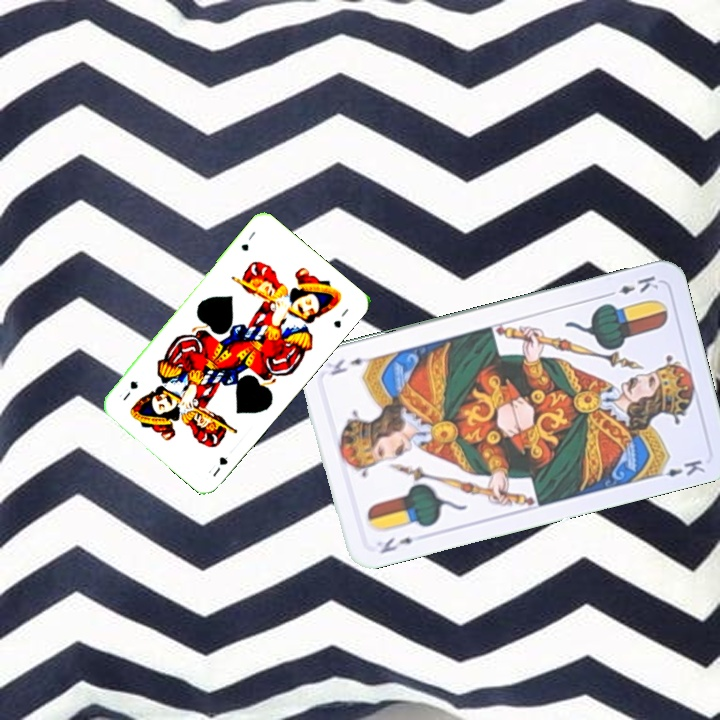EK: (602, 271, 661, 300), (376, 533, 416, 557)
GU: (204, 453, 230, 480), (237, 227, 258, 254)
